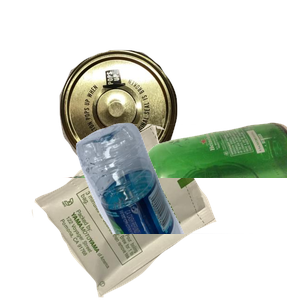glass: (60, 120, 300, 300)
metal: (57, 47, 227, 211)
plastic: (73, 120, 300, 300)
trash: (29, 124, 238, 300)
